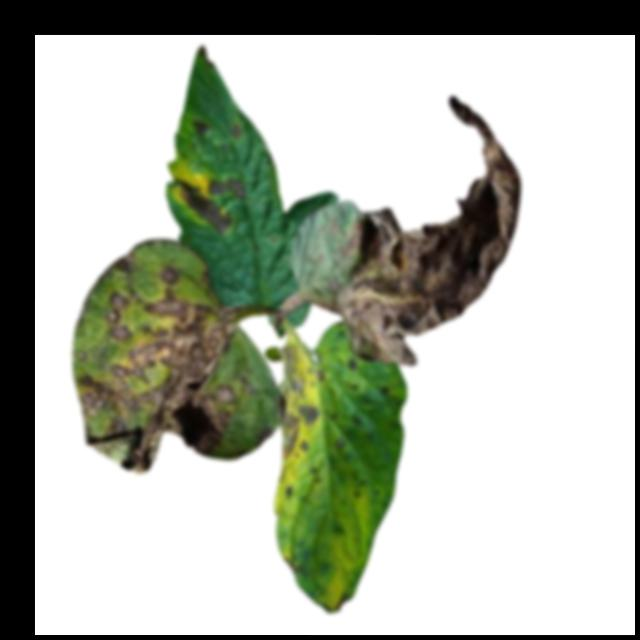Early_blight: (330, 93, 524, 366), (71, 262, 244, 478), (274, 334, 316, 468), (176, 177, 233, 232), (208, 172, 248, 199), (315, 590, 351, 613), (229, 118, 245, 139), (192, 118, 208, 137)
